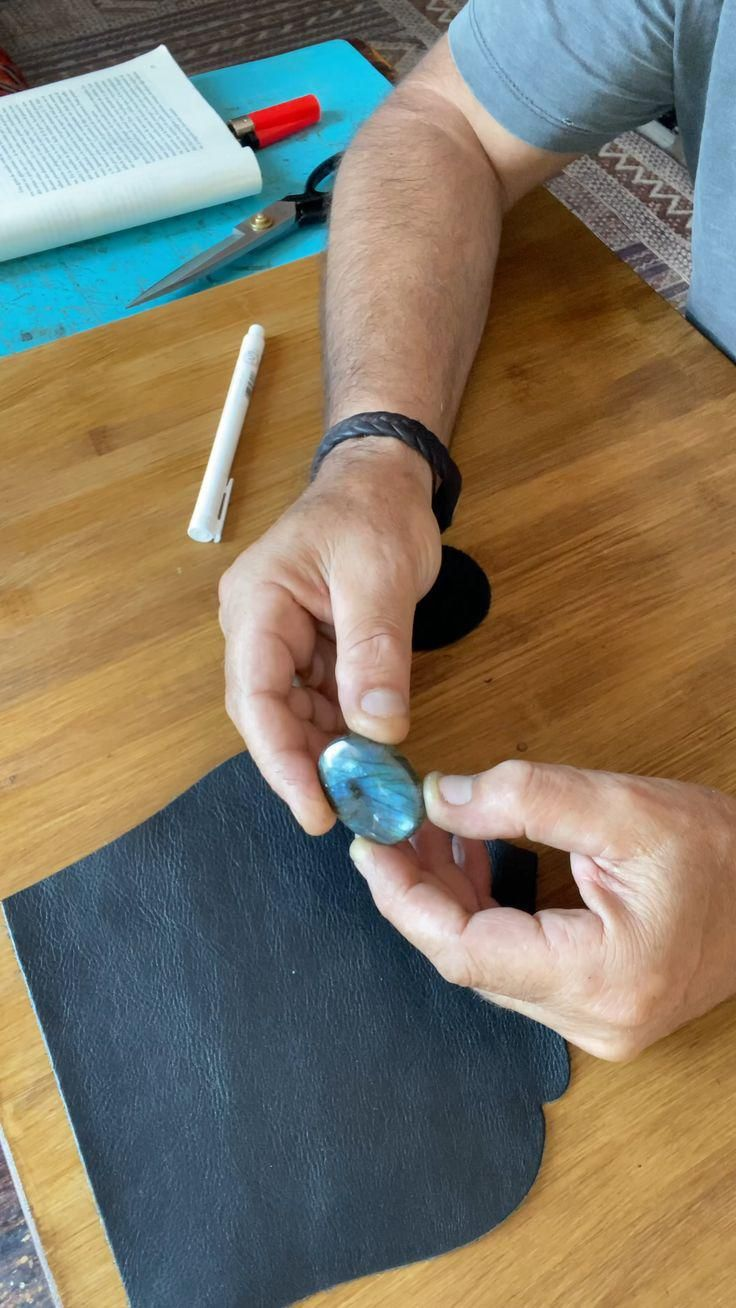cuero: (3, 733, 574, 1308)
